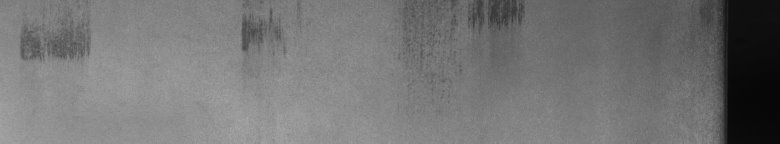ka: (236, 4, 288, 56)
